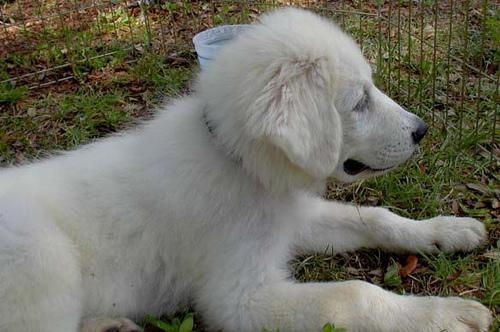Great_Pyrenees: (0, 7, 493, 331)
